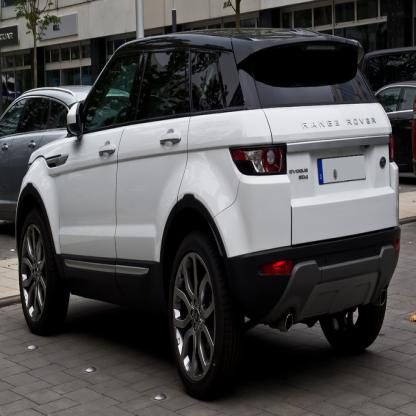Car: (16, 30, 403, 402), (1, 86, 131, 225), (376, 80, 416, 172), (364, 50, 416, 95)
